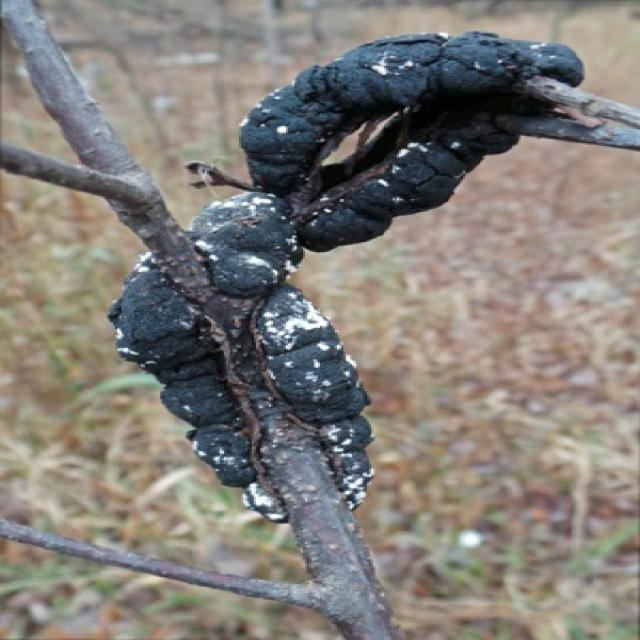Black_knot: (62, 206, 413, 519), (235, 28, 584, 250)
